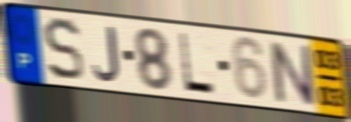6: (229, 34, 272, 105)
8: (133, 26, 176, 93)
J: (91, 25, 122, 84)
L: (176, 30, 218, 98)
N: (266, 39, 319, 109)
S: (41, 15, 86, 84)
